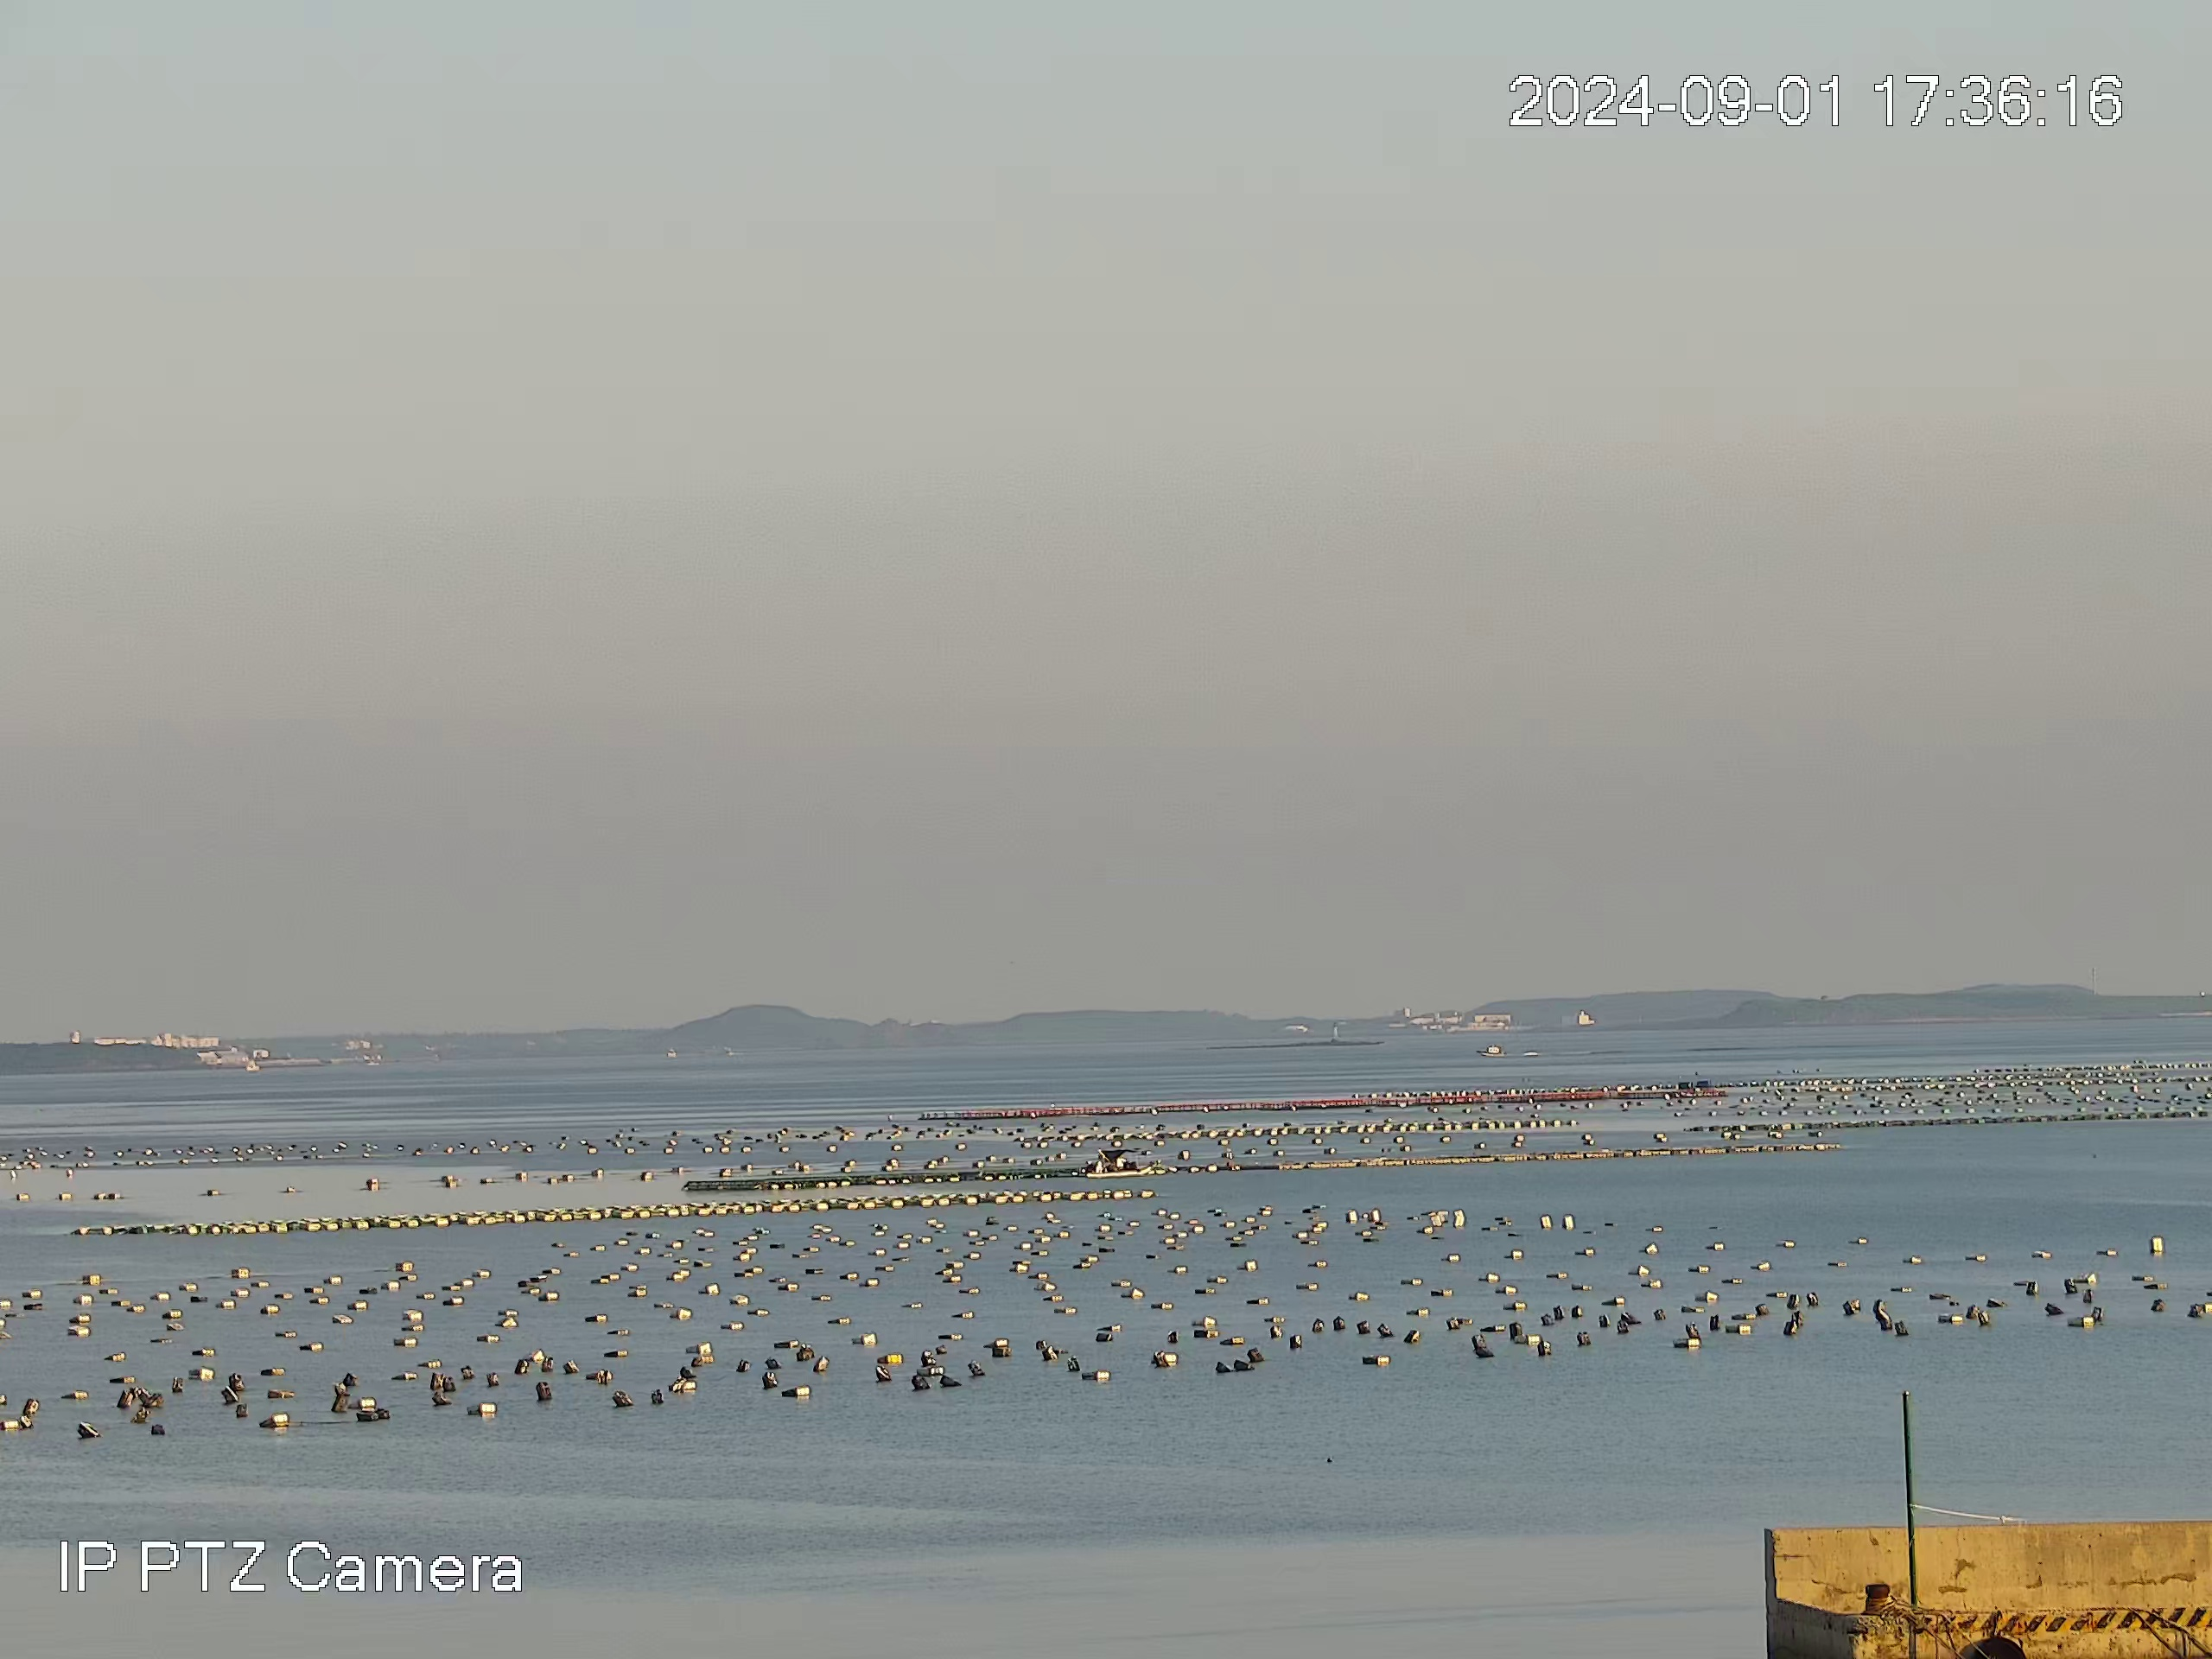boat: (1083, 1145, 1148, 1178)
